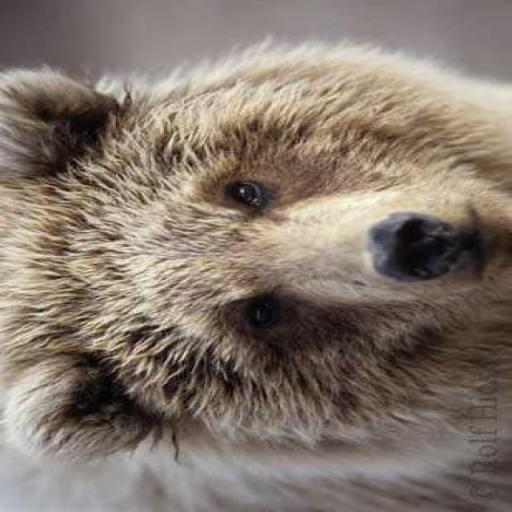Bear: (0, 35, 510, 511)
